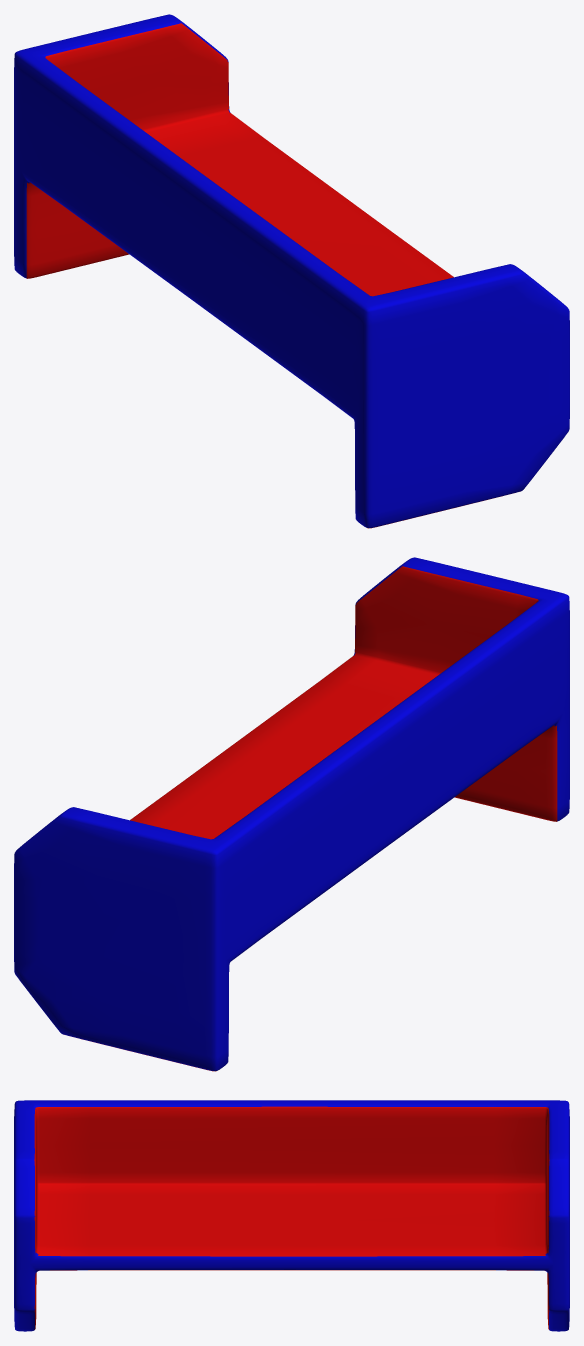
File: Wall_Shelf.fbx
The picture shows the model from 3 angles, top to bottom: view 1: azimuth 30°, elevation 25°; view 2: azimuth 150°, elevation 25°; view 3: azimuth 270°, elevation 25°; orthographic projection. The views are drawn at different scales.
Parts seen in each view (by area): view 1: Wall_Shelf; view 2: Wall_Shelf; view 3: Wall_Shelf.
Part boxes in pixels (box(x1,y1,x2,y2)): Wall_Shelf: box(14, 14, 569, 528); Wall_Shelf: box(14, 557, 569, 1071); Wall_Shelf: box(14, 1100, 569, 1331).
Size of the model in its own units: 37.31 by 38.48 by 112.
